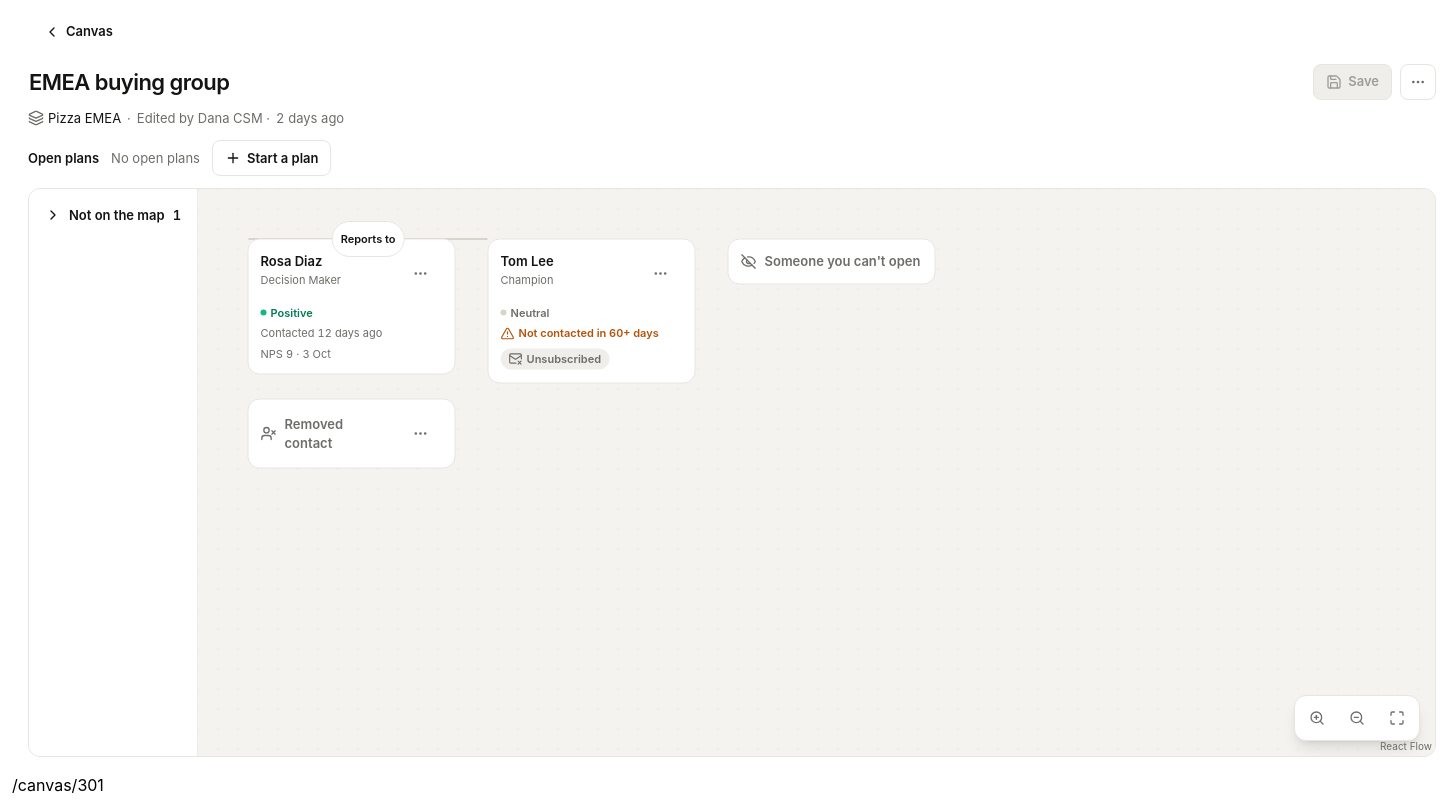
Scenario: MapEditor: every edit without dragging (spec §2.2) › adds a tray person at the next free grid spot, and they leave the tray
Click the button "Not on the map 1" at {"x": 113, "y": 215}, box 37,197 -> 189,233
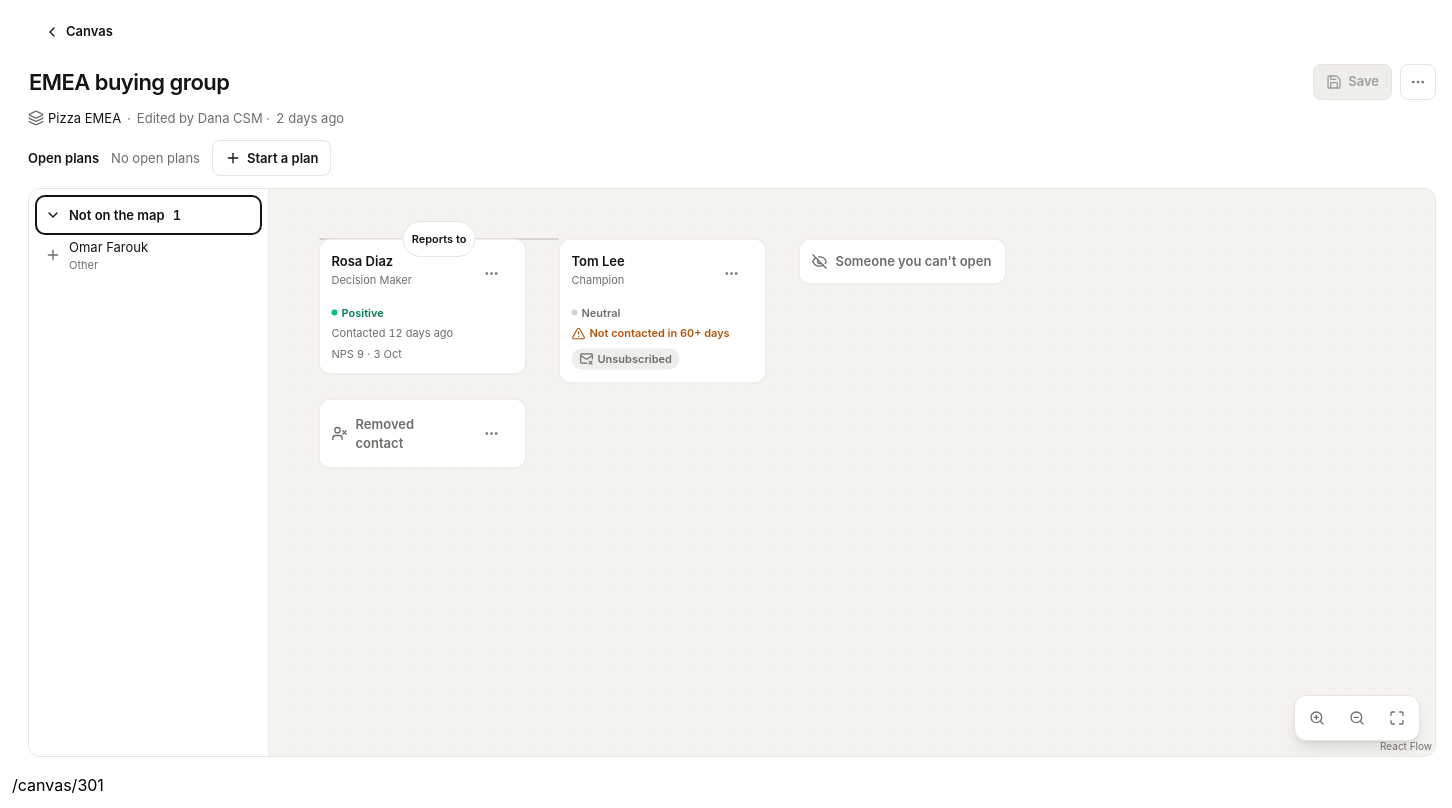
Click the button with aria-label "Add Omar Farouk to the map" at {"x": 148, "y": 255}, box 37,237 -> 260,273
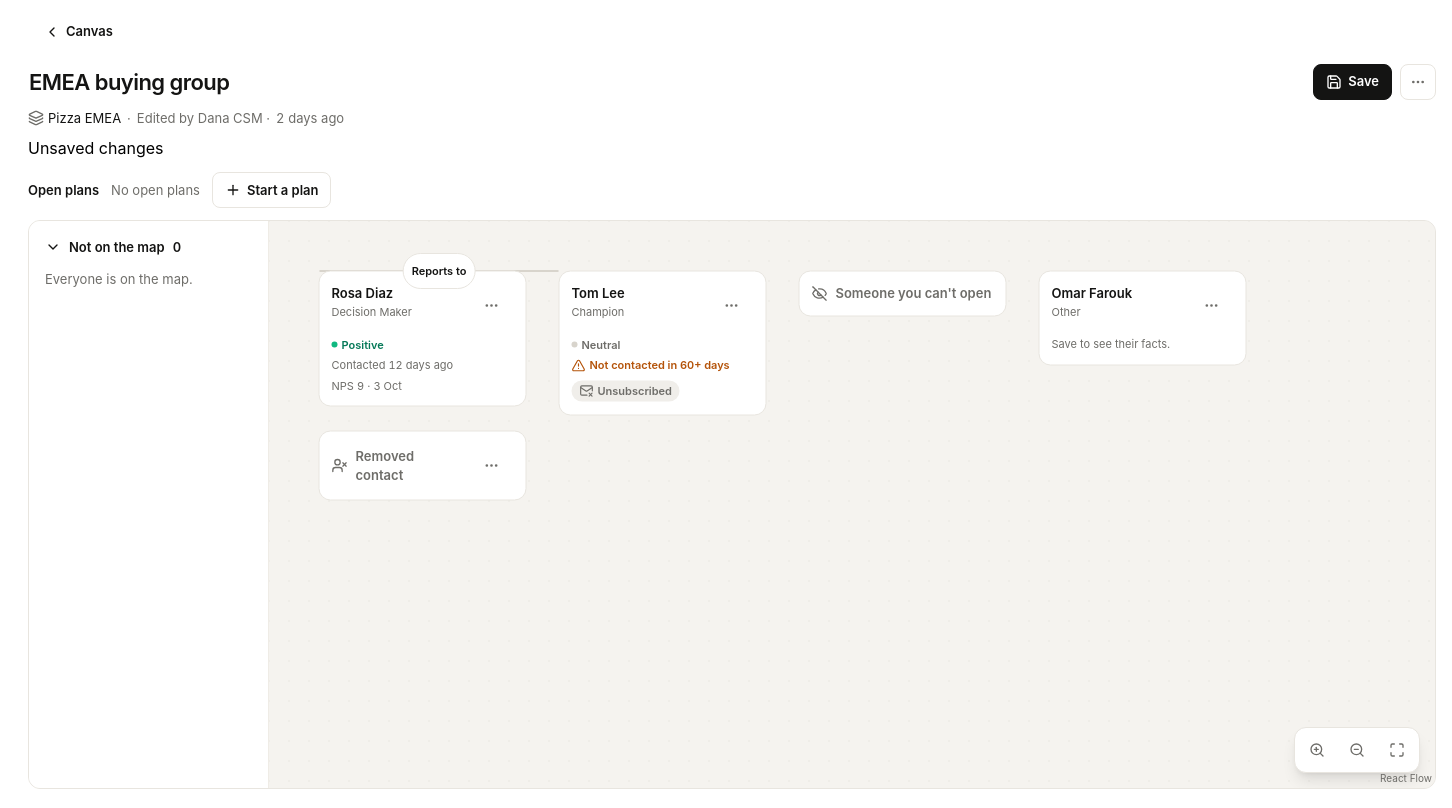
Result: the text "Omar Farouk" is shown at 1052,284 -> 1132,300
Result: the text "Save to see their facts." is shown at 1052,336 -> 1170,350
Click the button "Save" at {"x": 1353, "y": 82}, box 1313,64 -> 1392,100
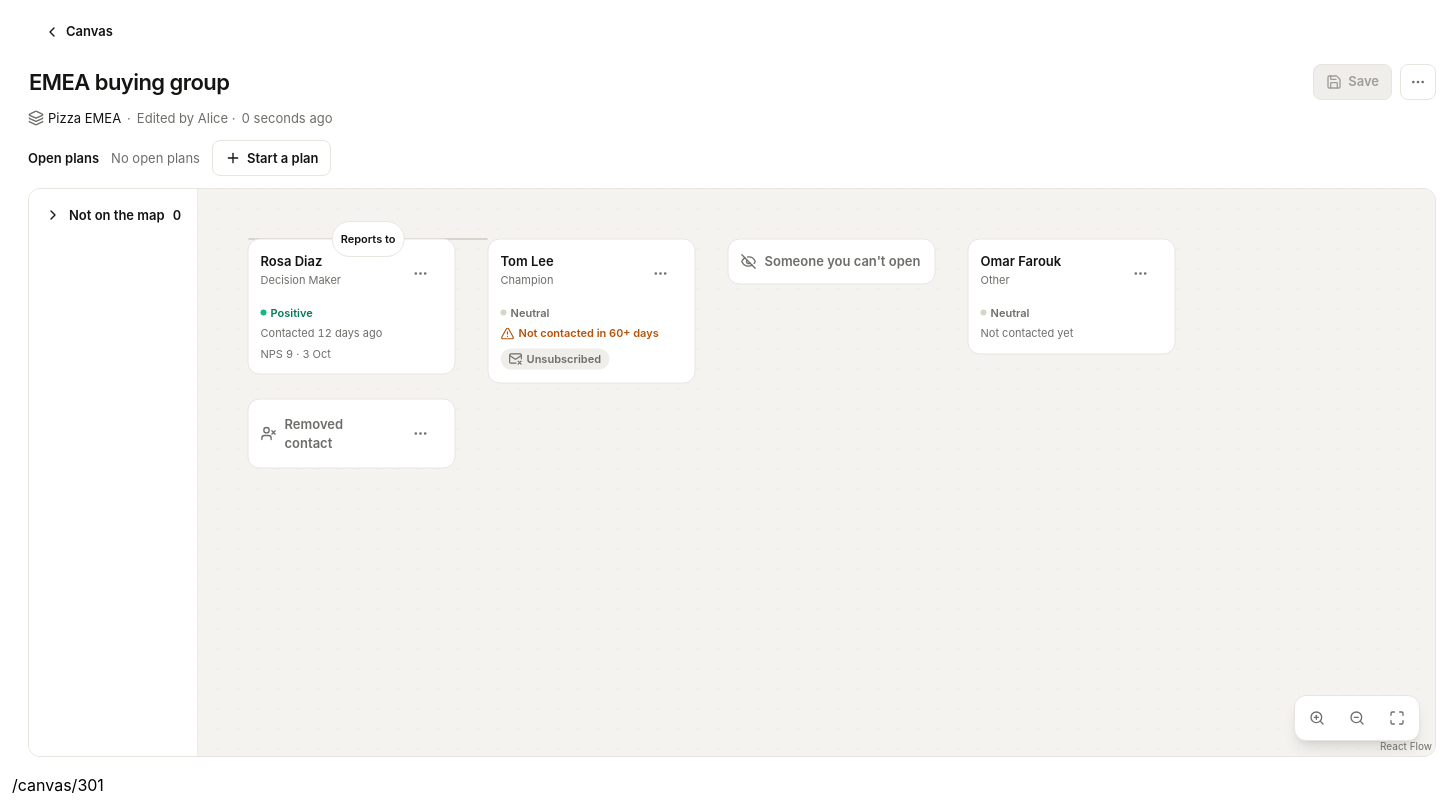
Result: the text "Not contacted yet" is shown at 980,325 -> 1073,341
